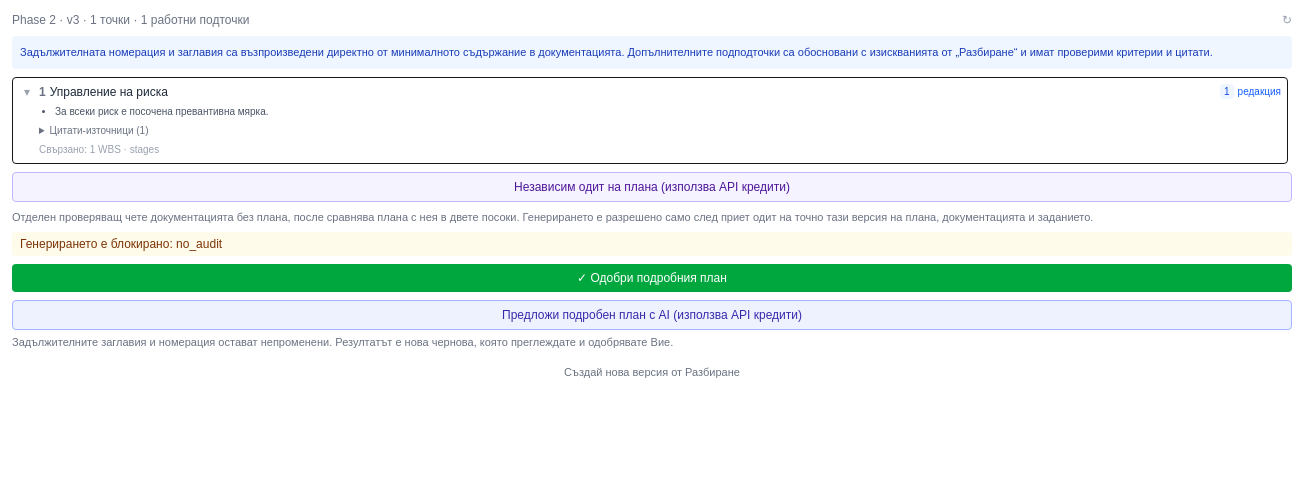
Test: OutlinePanel Phase 2 › edits a point title, classification, and acceptance criteria
Click the button "редакция" at (1259, 91), box top-left (1238, 84), bottom-right (1281, 98)
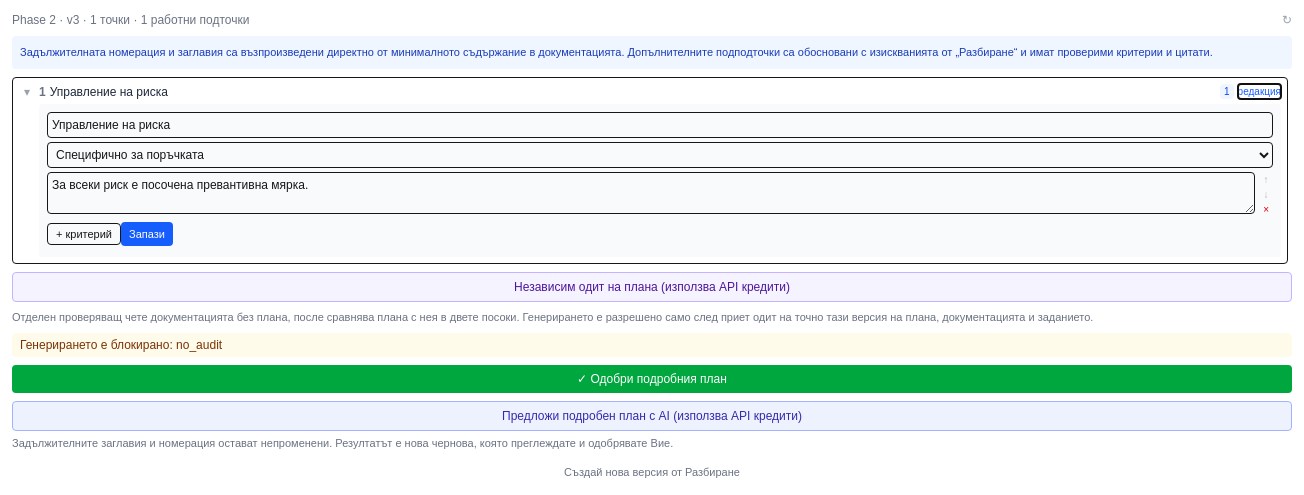
Replace the text in the field named "Заглавие на точката" with "Рискове и мерки" at (660, 124), box top-left (47, 112), bottom-right (1273, 138)
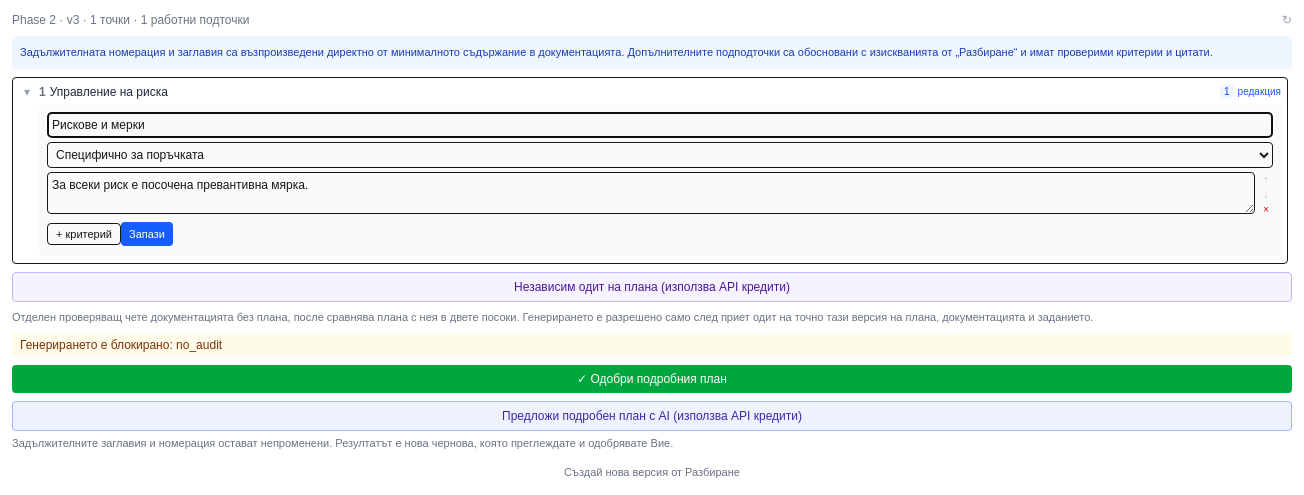
Select "Смесено" in the dropdown named "Вид съдържание" at (660, 154), box top-left (47, 142), bottom-right (1273, 168)
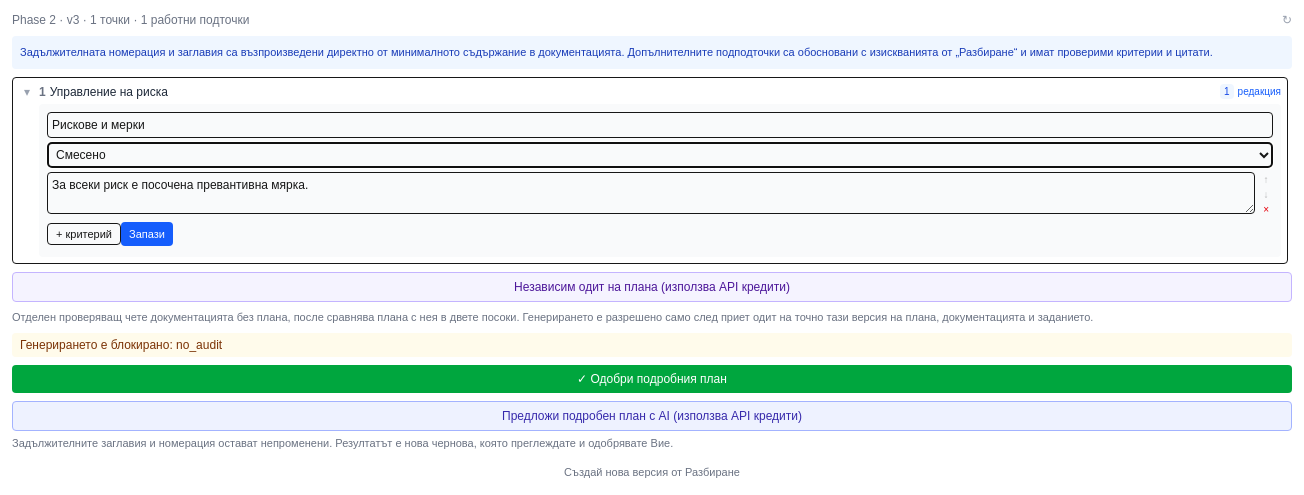
Replace the text in the text box named "Критерий 1" with "Има собственик на риска." at (651, 192), box top-left (47, 172), bottom-right (1255, 214)
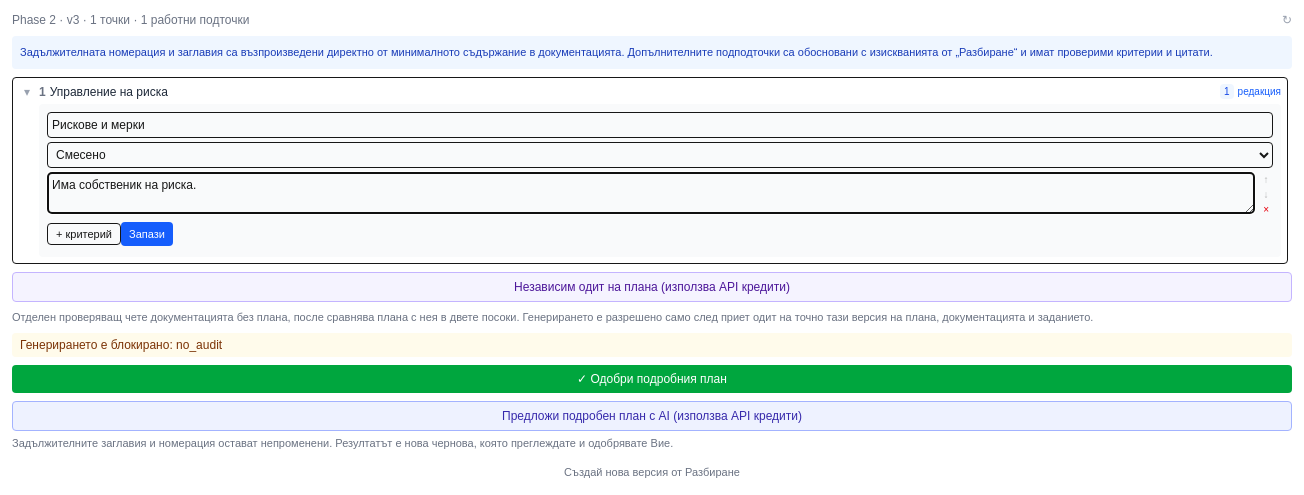
Click the button "Запази" at (147, 234), box top-left (121, 222), bottom-right (173, 246)
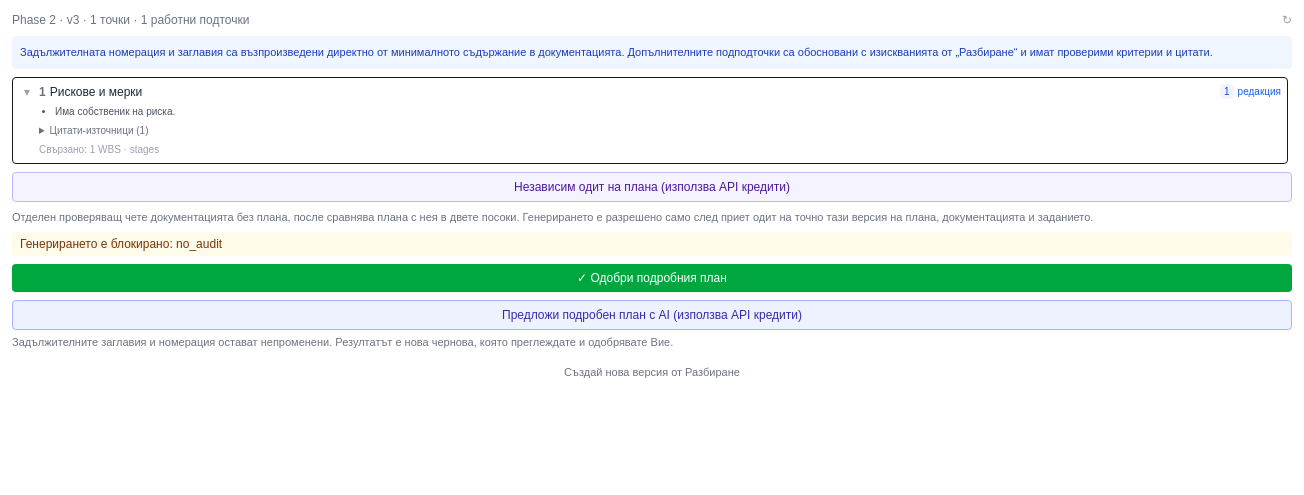
Expected: the button "1Рискове и мерки" is shown, top-left (39, 84), bottom-right (1216, 100)
